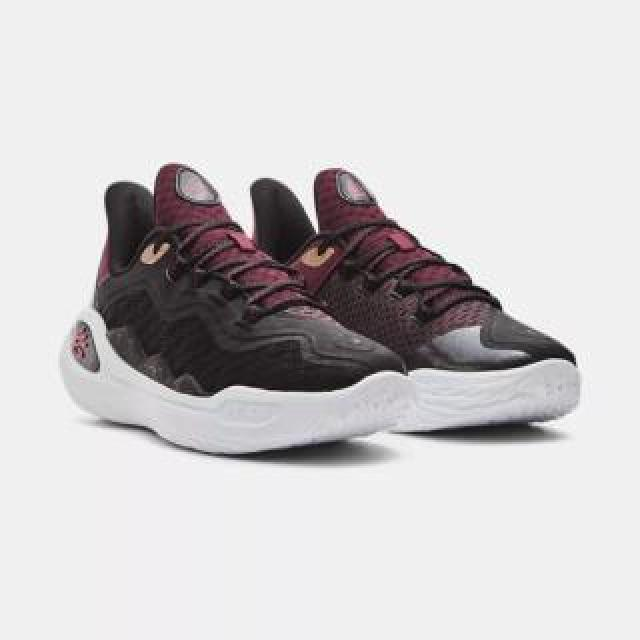shoe: (59, 163, 413, 455), (221, 168, 579, 432)
